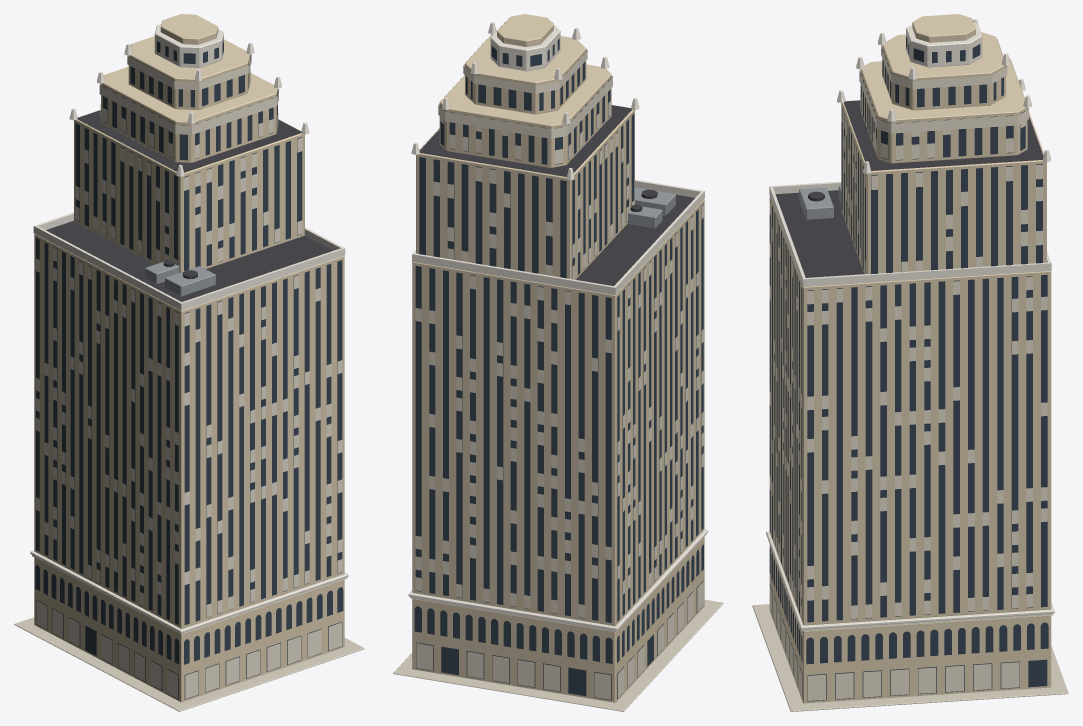
The model's file is 100-bush-street.glb.
3 views of the same model, side by side, from view 1: azimuth 30°, elevation 25°; view 2: azimuth 150°, elevation 25°; view 3: azimuth 270°, elevation 25° (orthographic). The views are drawn at different scales.
Visible parts, largest first — view 1: 100-bush-street_body, 100-bush-street_night_glow; view 2: 100-bush-street_body, 100-bush-street_night_glow; view 3: 100-bush-street_body, 100-bush-street_night_glow.
Boxes of the visible parts, <box> form: 100-bush-street_body: <box>14,14,364,711</box>; 100-bush-street_night_glow: <box>35,54,342,698</box>; 100-bush-street_body: <box>393,14,723,711</box>; 100-bush-street_night_glow: <box>415,49,703,699</box>; 100-bush-street_body: <box>752,14,1068,711</box>; 100-bush-street_night_glow: <box>769,39,1047,700</box>.
Bounding box in the file's own units: 48.31 × 115 × 52.16.
